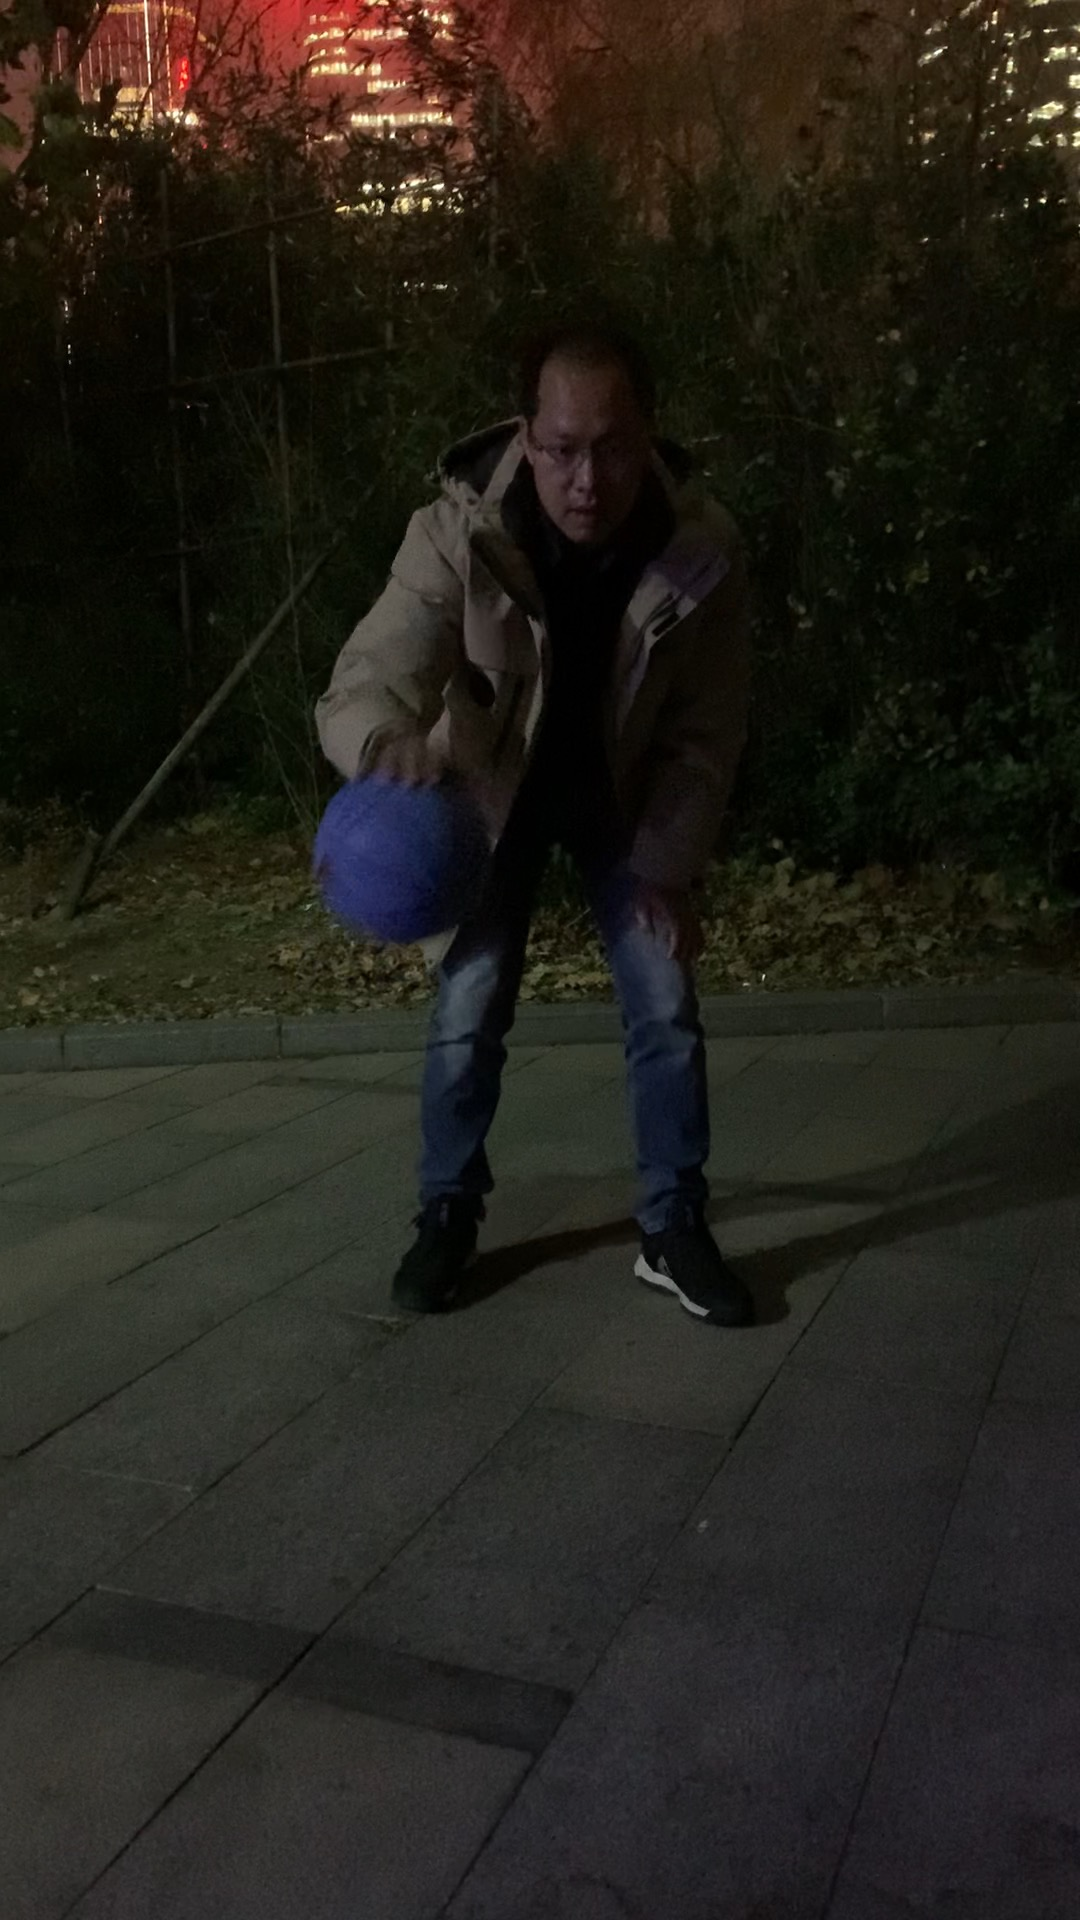ball: (305, 771, 497, 947)
